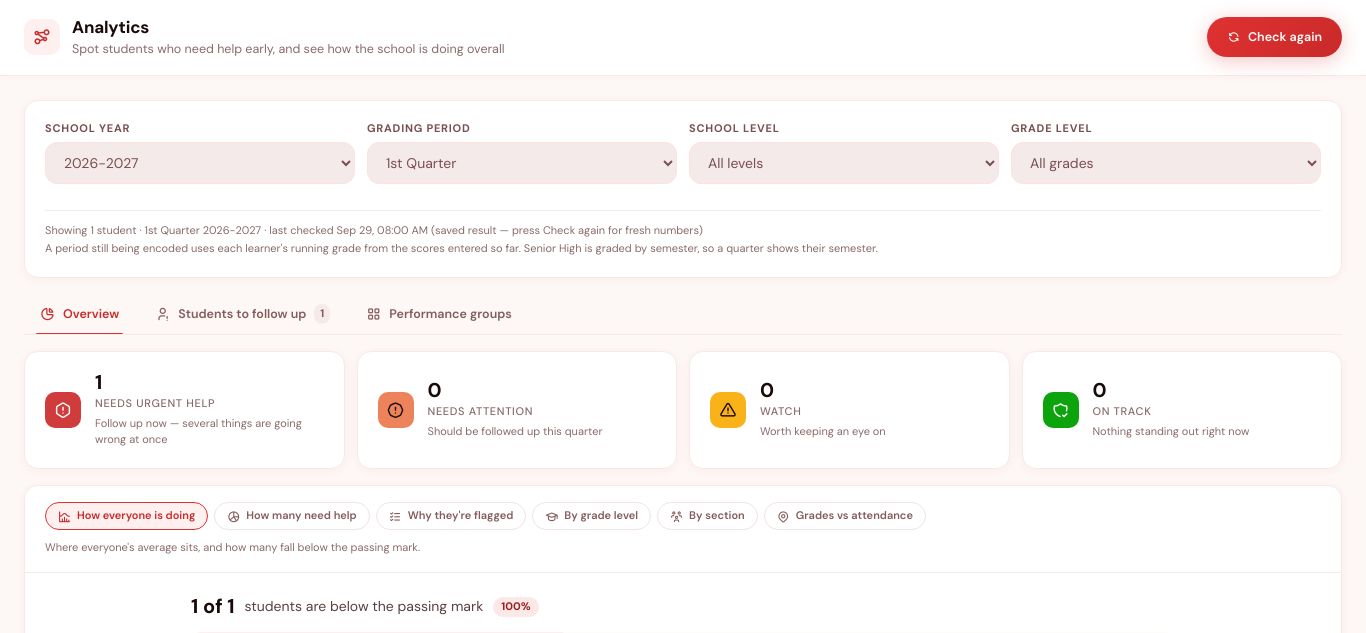
Test: AnalyticsPage › drops the last error when the reader moves to another selection
Click the button "Check again".
click(1275, 37)  # box [1207,17,1342,57]
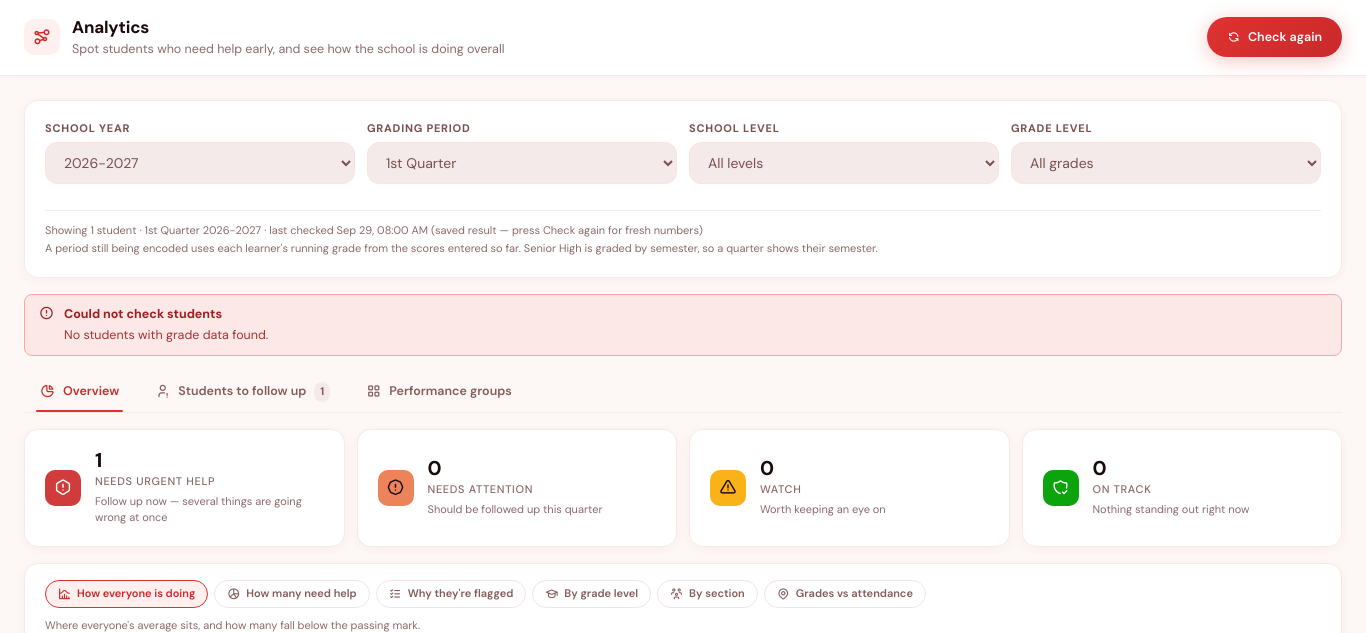
expect the text "No students with grade data found." is shown: met, box [64,327,268,343]
Select "2nd Quarter" in the dropdown labelled "Grading period" at (522, 164), box [367,142,677,184]
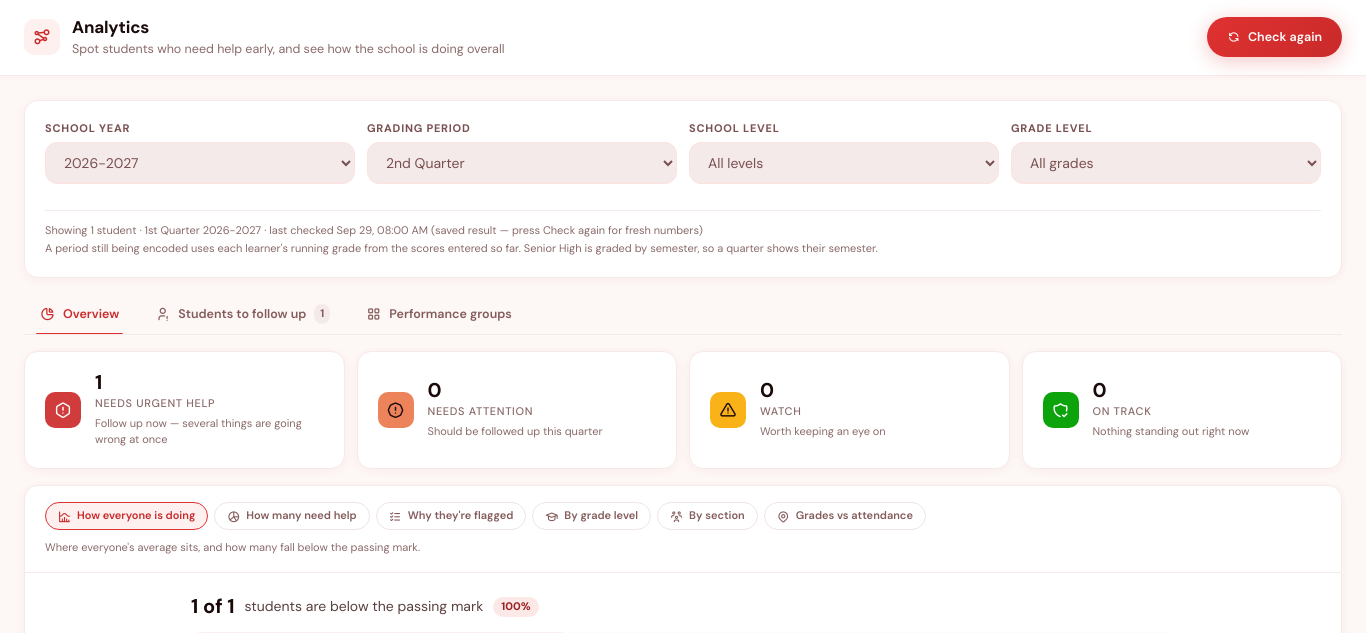
expect the text "No students with grade data found." is gone: met
